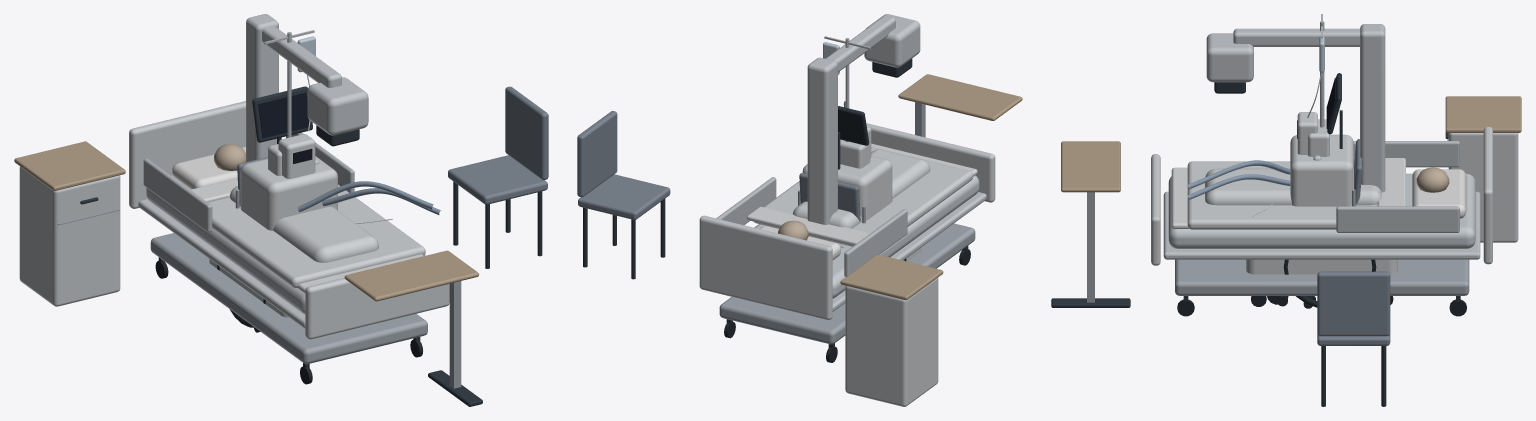
The model's file is ward.glb.
3 renders of one model, left to right at view 1: azimuth 30°, elevation 25°; view 2: azimuth 150°, elevation 25°; view 3: azimuth 270°, elevation 25°, orthographic. The views are drawn at different scales.
Visible parts, largest first — view 1: bed, roomKit, occupant, xray, vent, pump; view 2: bed, roomKit, xray, occupant, vent, chair, scanner, pump; view 3: bed, roomKit, xray, occupant, vent, pump, chair, scanner.
Part boxes in pixels (left/top/right/bottom): bed: left=129, top=101, right=449, bottom=384; roomKit: left=14, top=86, right=548, bottom=406; occupant: left=190, top=144, right=425, bottom=287; xray: left=209, top=14, right=368, bottom=317; vent: left=240, top=86, right=440, bottom=230; pump: left=254, top=30, right=392, bottom=332; bed: left=699, top=123, right=995, bottom=362; roomKit: left=577, top=74, right=1022, bottom=406; xray: left=807, top=14, right=921, bottom=261; occupant: left=747, top=147, right=973, bottom=246; vent: left=802, top=101, right=892, bottom=220; chair: left=798, top=173, right=906, bottom=261; scanner: left=840, top=139, right=870, bottom=168; pump: left=823, top=36, right=871, bottom=157; bed: left=1151, top=126, right=1492, bottom=316; roomKit: left=1051, top=96, right=1521, bottom=406; xray: left=1206, top=24, right=1397, bottom=306; occupant: left=1187, top=158, right=1449, bottom=229; vent: left=1187, top=73, right=1353, bottom=306; pump: left=1251, top=14, right=1324, bottom=308; chair: left=1267, top=139, right=1376, bottom=307; scanner: left=1308, top=119, right=1329, bottom=300.
Size of the model in its own units: 2.94 by 1.87 by 2.97.
